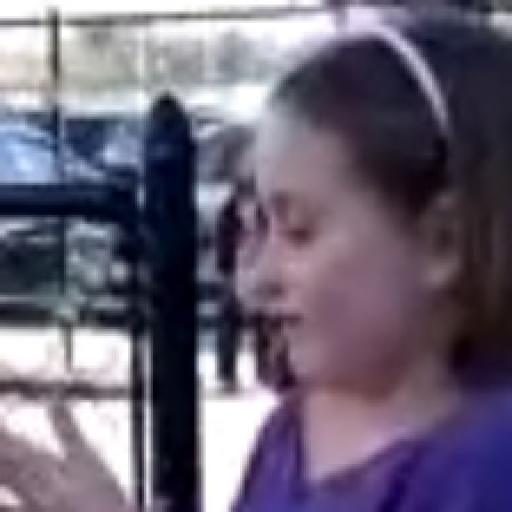Autism: (190, 58, 495, 426)
